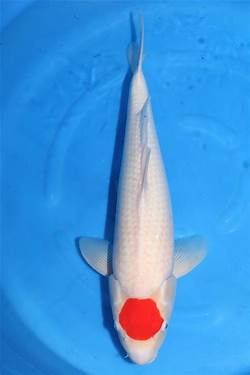sun: (76, 14, 208, 366)
